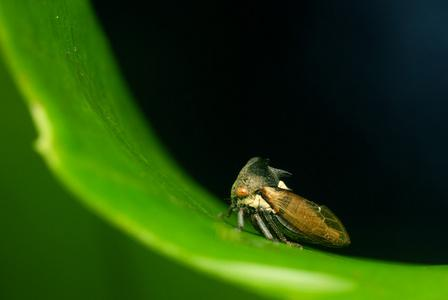Cicadellidae: (231, 155, 351, 247)
